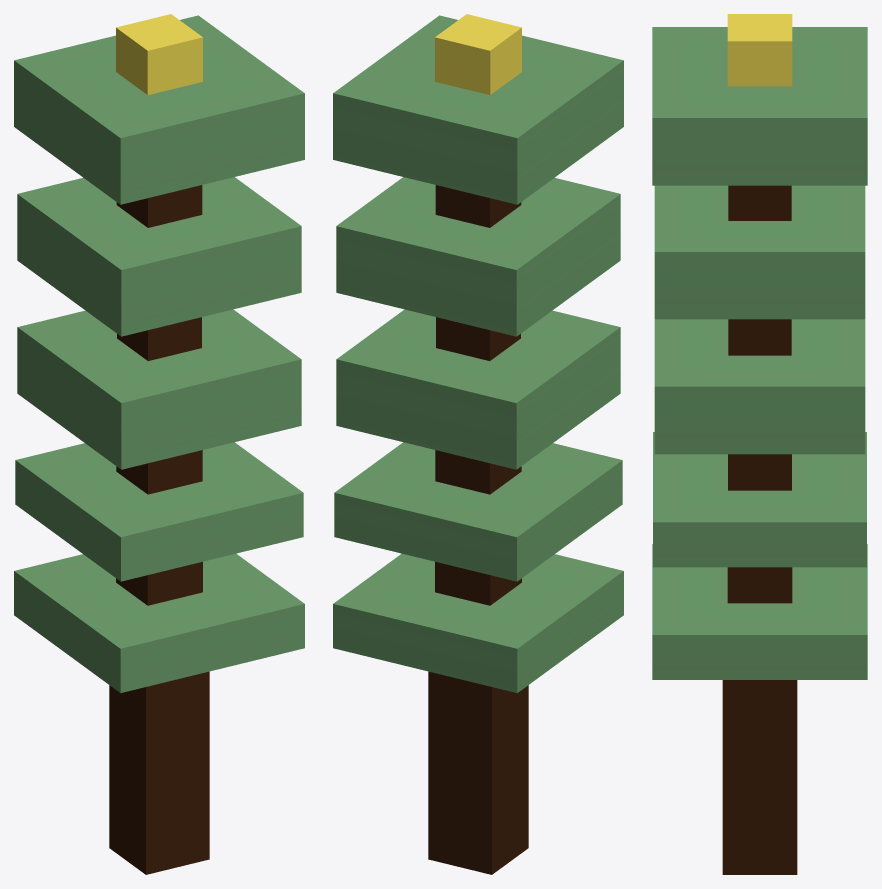
Rendered from bush_3.fbx.
3 renders of one model, left to right at view 1: azimuth 30°, elevation 25°; view 2: azimuth 150°, elevation 25°; view 3: azimuth 270°, elevation 25°, orthographic.
Visible parts, largest first — view 1: Cube; view 2: Cube; view 3: Cube.
Boxes of the visible parts, left/top/right/bottom form: Cube: left=14, top=14, right=304, bottom=874; Cube: left=333, top=14, right=623, bottom=874; Cube: left=652, top=14, right=867, bottom=874.
Bounding box in the file's own units: 86.9 × 370 × 86.9.
